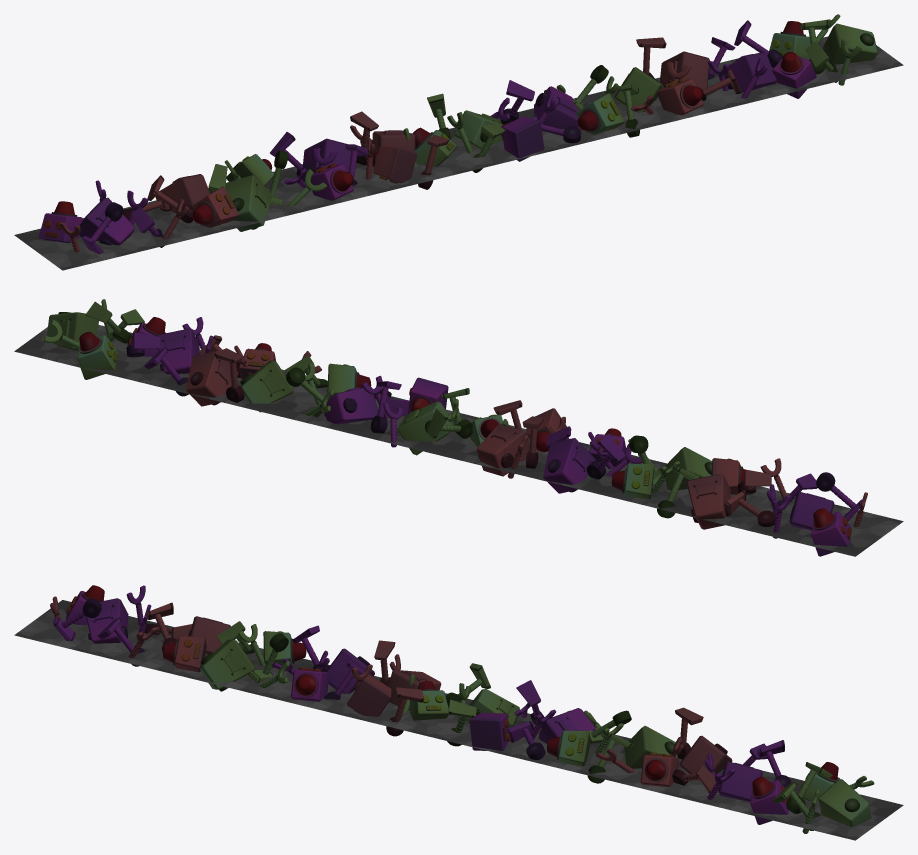
Rendered from BgMD_Scrap_01.fbx.
3 renders of one model, top to bottom at view 1: azimuth 30°, elevation 25°; view 2: azimuth 150°, elevation 25°; view 3: azimuth 330°, elevation 25°, orthographic.
Parts seen in each view (by area): view 1: pPlane1, initialShadingGrouphead_mouse (×11), body (×11), initialShadingGroupleggs1 (×6), initialShadingGroupleggs; view 2: body (×11), pPlane1, initialShadingGrouphead_mouse (×11), initialShadingGroupleggs1 (×10), initialShadingGroupleggs (×3); view 3: pPlane1, body (×11), initialShadingGrouphead_mouse (×11), initialShadingGroupleggs1 (×6), initialShadingGroupleggs (×5).
Boxes of the visible parts, x1,y1,x2,y2 form: pPlane1: [14, 36, 903, 270]; initialShadingGrouphead_mouse (×11): [38, 21, 816, 242]; body (×11): [79, 23, 877, 245]; initialShadingGroupleggs1 (×6): [82, 20, 782, 254]; initialShadingGroupleggs: [619, 84, 639, 137]; body (×11): [47, 312, 834, 530]; pPlane1: [14, 325, 903, 556]; initialShadingGrouphead_mouse (×11): [77, 317, 851, 556]; initialShadingGroupleggs1 (×10): [85, 301, 862, 521]; initialShadingGroupleggs (×3): [144, 346, 775, 526]; pPlane1: [14, 600, 903, 840]; body (×11): [85, 598, 871, 826]; initialShadingGrouphead_mouse (×11): [66, 585, 839, 824]; initialShadingGroupleggs1 (×6): [52, 598, 832, 813]; initialShadingGroupleggs (×5): [386, 687, 715, 792].
Bounding box in the file's own units: 1000 × 73.74 × 106.
